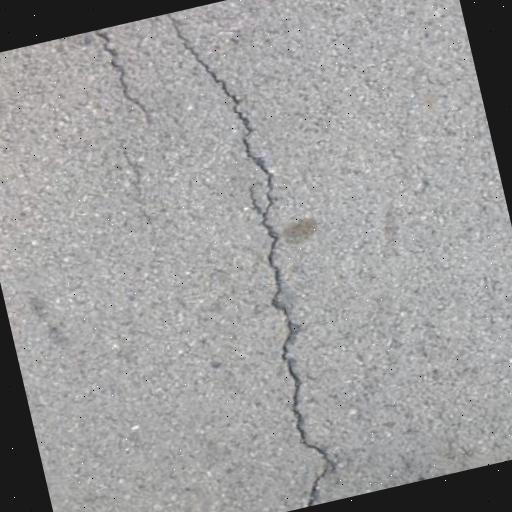spalling: (152, 15, 350, 505), (89, 42, 161, 131)
